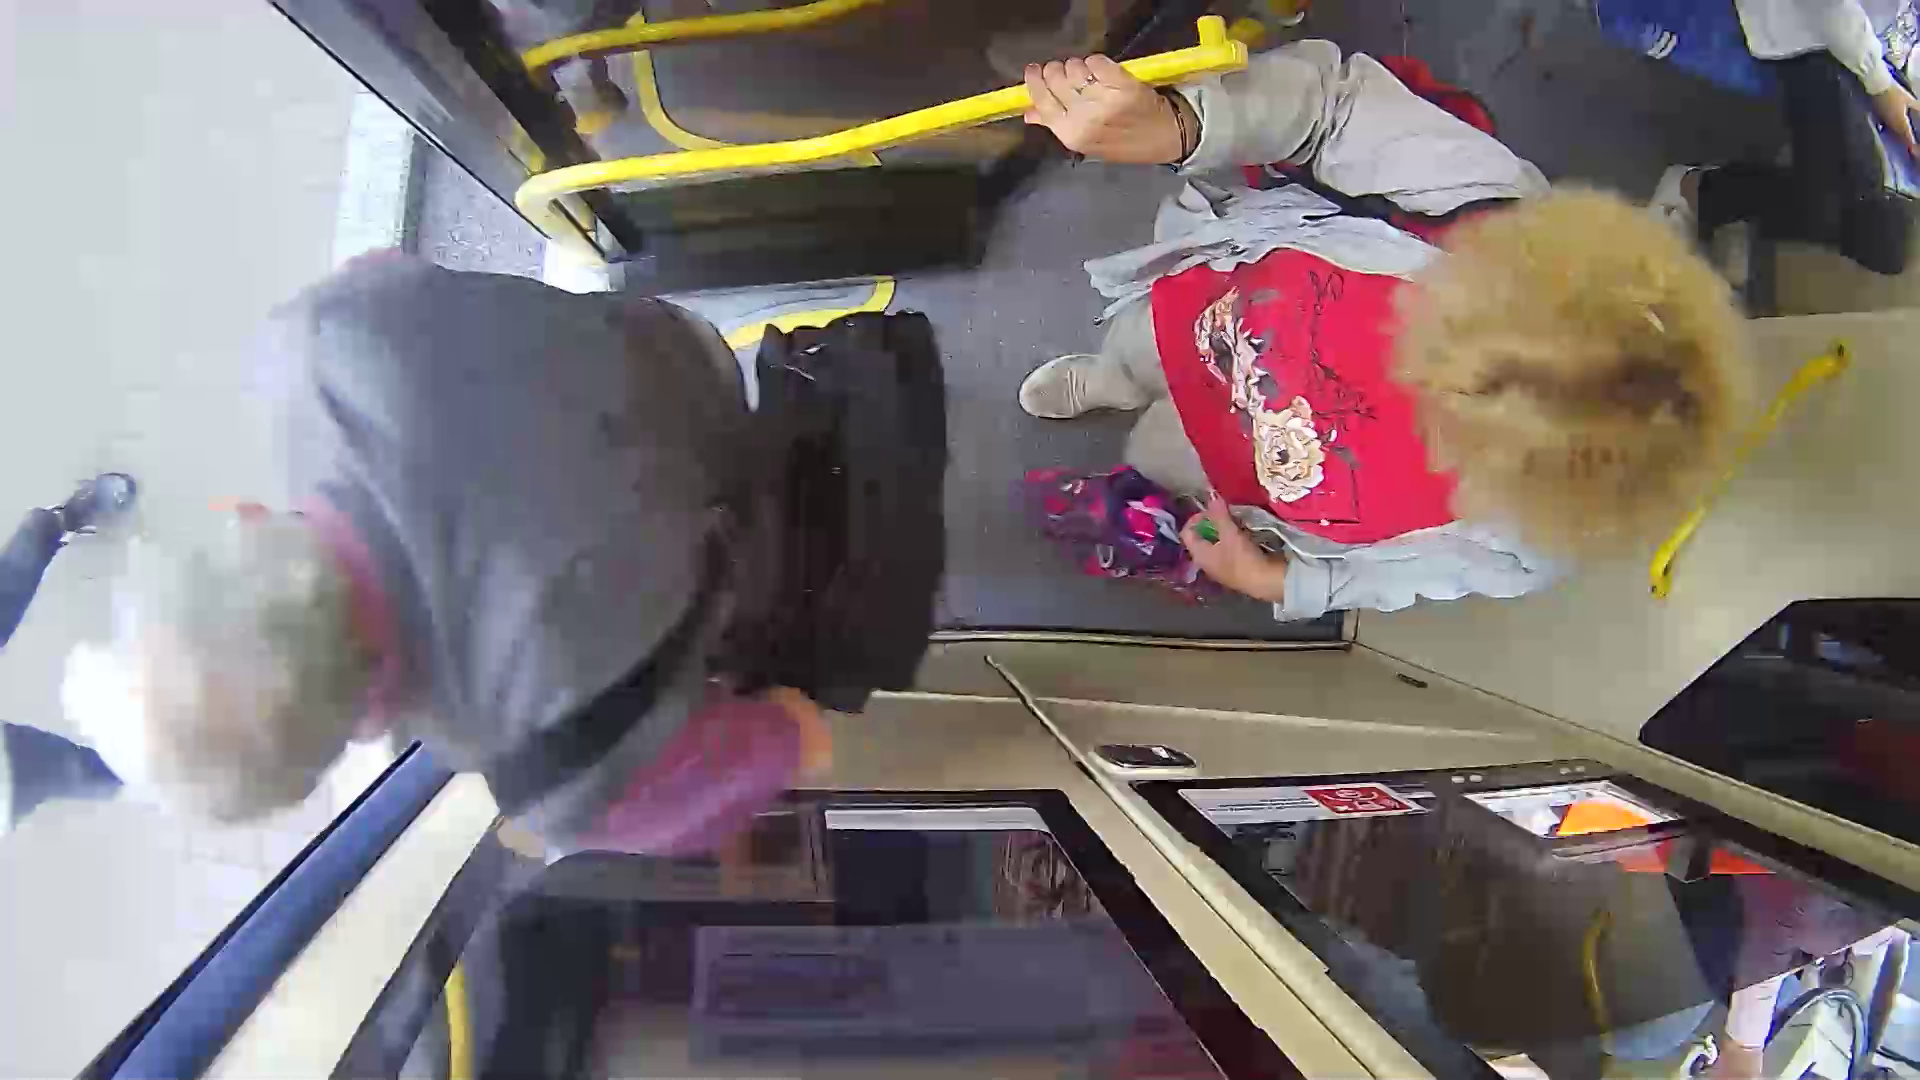person: (74, 231, 989, 855), (998, 55, 1770, 660)
